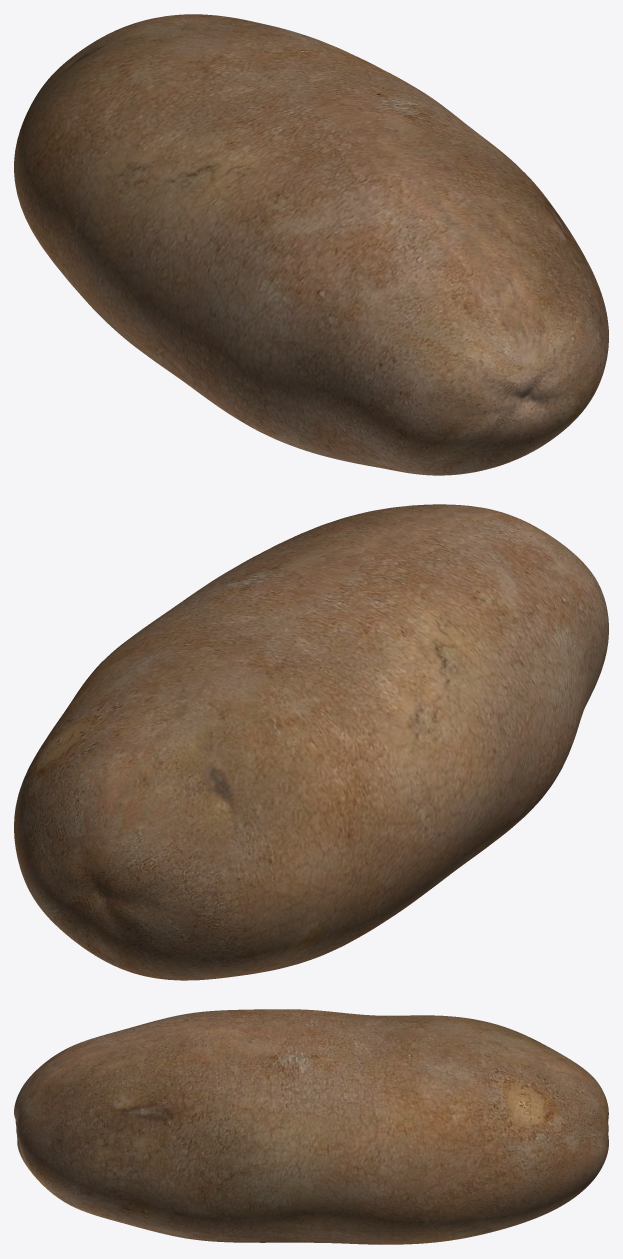
The model's file is 10201_Potato_v1-L3.obj.
3 renders of one model, top to bottom at view 1: azimuth 30°, elevation 25°; view 2: azimuth 150°, elevation 25°; view 3: azimuth 270°, elevation 25°, orthographic. The views are drawn at different scales.
Visible parts, largest first — view 1: Potato_Mesh; view 2: Potato_Mesh; view 3: Potato_Mesh.
Boxes of the visible parts, x1,y1,x2,y2 form: Potato_Mesh: (14, 14, 608, 475); Potato_Mesh: (14, 504, 608, 980); Potato_Mesh: (14, 1009, 608, 1244).
Size of the model in its own units: 6.57 by 5.04 by 12.94.
Materials: 1 (1 with a texture image).
